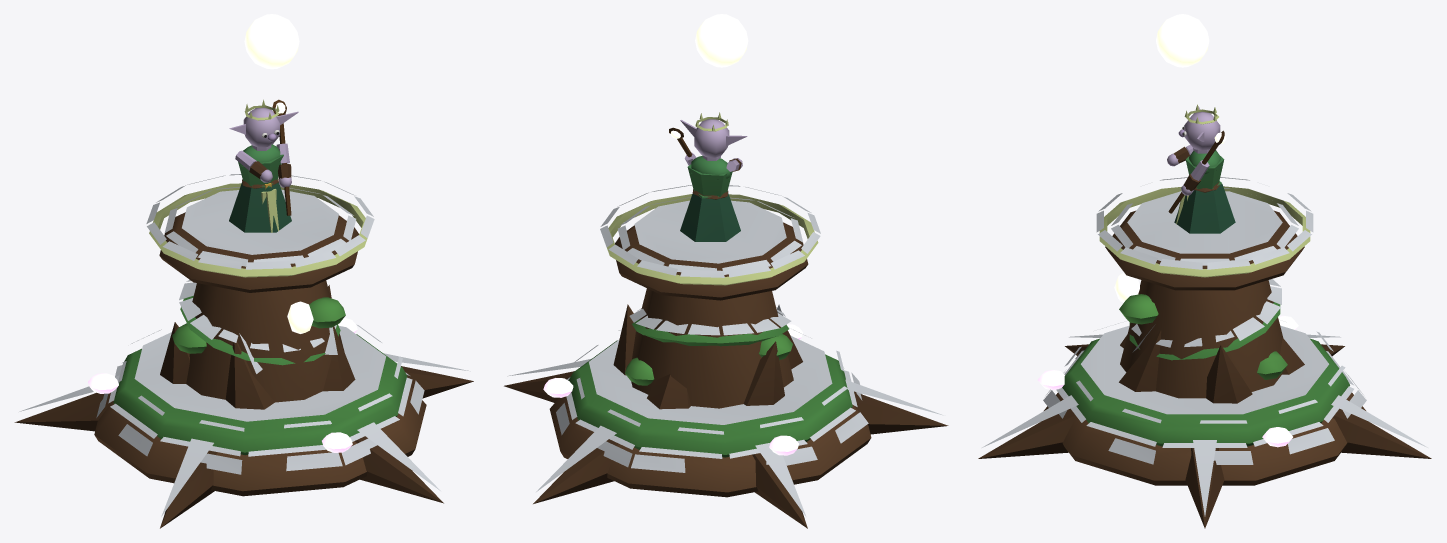
File: sylvestres-5.glb
3 views of the same model, side by side, from view 1: azimuth 30°, elevation 25°; view 2: azimuth 150°, elevation 25°; view 3: azimuth 270°, elevation 25° (orthographic). The views are drawn at different scales.
Parts seen in each view (by area): view 1: sylvestres_5_peint, Buste_peint, OrbeMagique, Crane_peint, sylvestres_5_lueur, Lanterne, BrasG_peint; view 2: sylvestres_5_peint, Buste_peint, OrbeMagique, Crane_peint, sylvestres_5_lueur; view 3: sylvestres_5_peint, Buste_peint, OrbeMagique, Crane_peint, sylvestres_5_lueur, Lanterne.
Part boxes in pixels (x1,y1,x2,y2): sylvestres_5_peint: [14, 174, 473, 528]; Buste_peint: [229, 144, 291, 232]; OrbeMagique: [244, 14, 299, 69]; Crane_peint: [229, 99, 298, 147]; sylvestres_5_lueur: [88, 317, 357, 452]; Lanterne: [287, 301, 313, 333]; BrasG_peint: [235, 150, 272, 182]; sylvestres_5_peint: [504, 185, 948, 528]; Buste_peint: [680, 155, 740, 241]; OrbeMagique: [695, 14, 748, 67]; Crane_peint: [680, 112, 747, 157]; sylvestres_5_lueur: [543, 324, 802, 455]; sylvestres_5_peint: [978, 177, 1431, 528]; Buste_peint: [1174, 150, 1235, 233]; OrbeMagique: [1156, 14, 1209, 67]; Crane_peint: [1178, 104, 1220, 150]; sylvestres_5_lueur: [1038, 315, 1298, 447]; Lanterne: [1114, 272, 1139, 302].
Bounding box in the file's own units: 0.9692 × 1.02 × 1.02.
